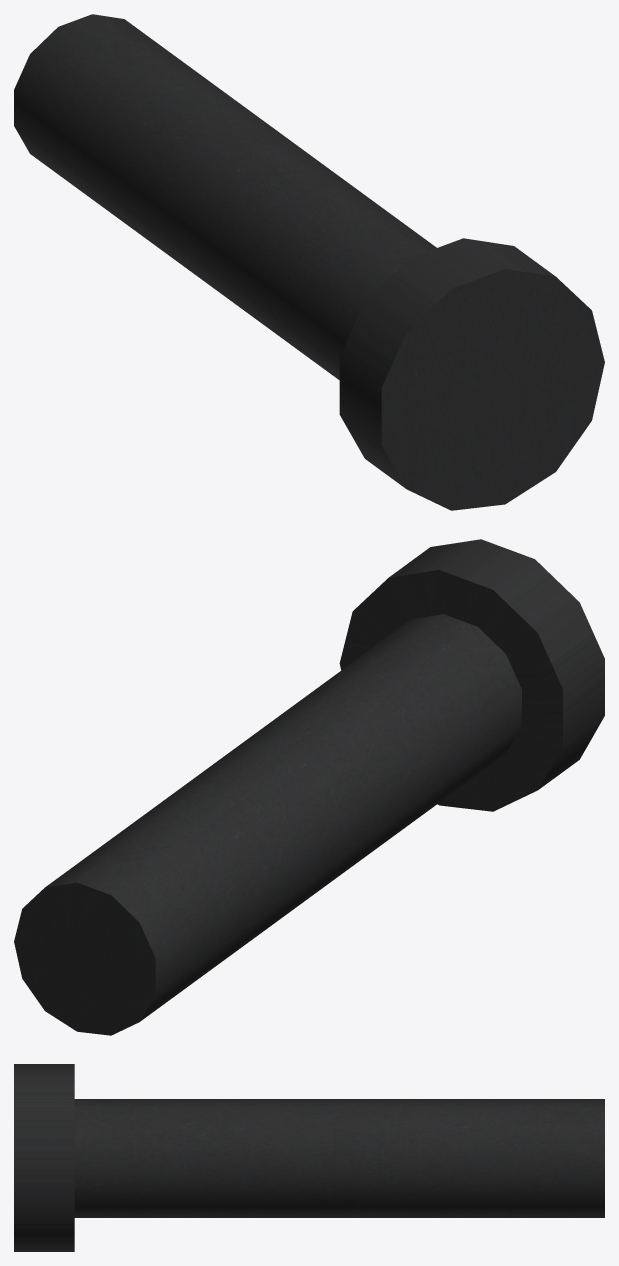
Rendered from Pivot_Pin.dae.
3 views of the same model, one above another, from view 1: azimuth 30°, elevation 25°; view 2: azimuth 150°, elevation 25°; view 3: azimuth 270°, elevation 25° (orthographic). The views are drawn at different scales.
Parts seen in each view (by area): view 1: Pivot_Pin; view 2: Pivot_Pin; view 3: Pivot_Pin.
Part boxes in pixels (x1,y1,x2,y2): Pivot_Pin: (14,14,604,510); Pivot_Pin: (14,539,604,1035); Pivot_Pin: (14,1064,604,1251).
Bounding box in the file's own units: 0.00983 × 0.0311 × 0.0099.
Materials: 1 (1 with a texture image).
